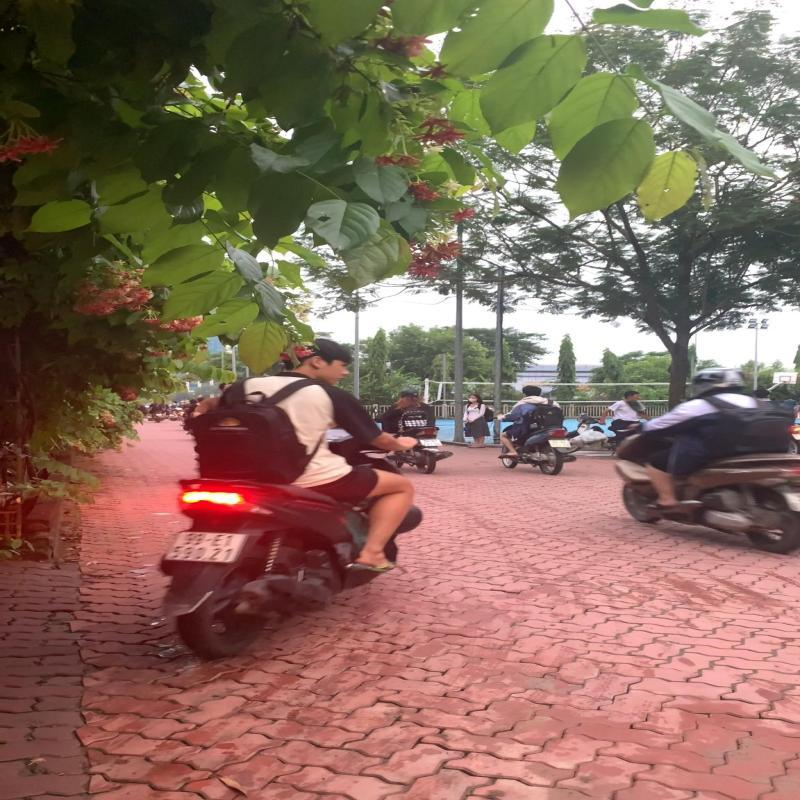licenseplate: (164, 530, 252, 564), (546, 439, 572, 448)
motorcyclist: (152, 336, 430, 660), (488, 383, 578, 477)
nohelmet: (276, 336, 352, 384), (521, 384, 543, 396)
